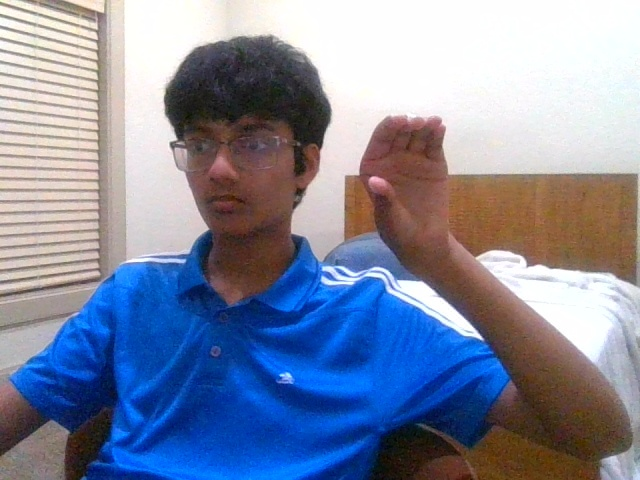no: (359, 114, 449, 254)
